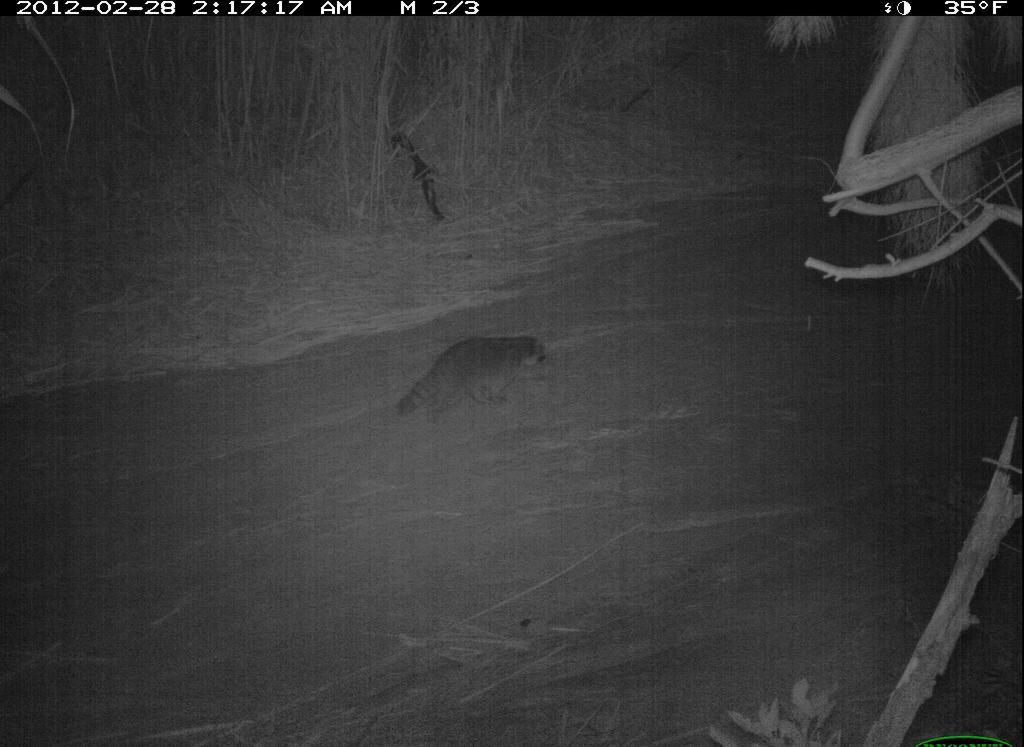raccoon: (378, 322, 560, 443)
